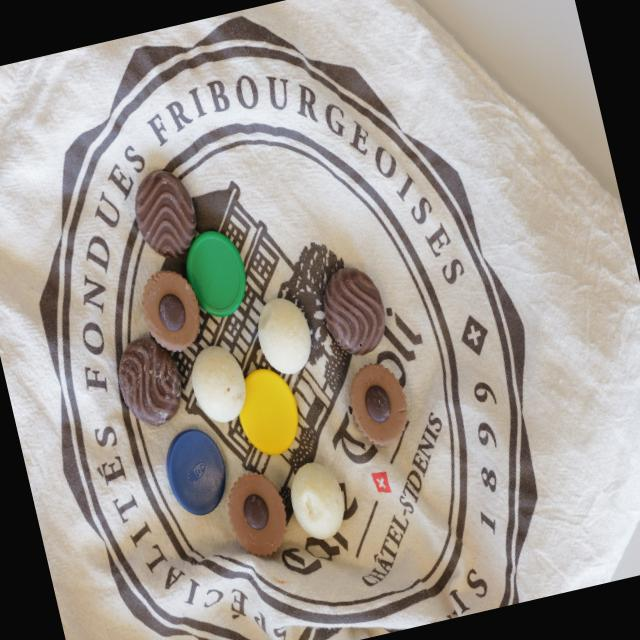Comtesse: (185, 338, 252, 428), (250, 292, 318, 378), (286, 458, 350, 542)
Noblesse: (222, 468, 295, 560), (135, 262, 207, 355), (344, 358, 416, 451)
Noir_authentique: (109, 331, 189, 432), (127, 165, 206, 264), (317, 260, 393, 360)
